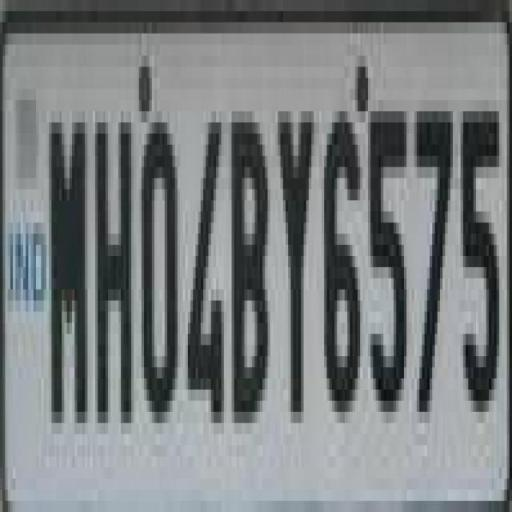number plate: (17, 11, 512, 512)
